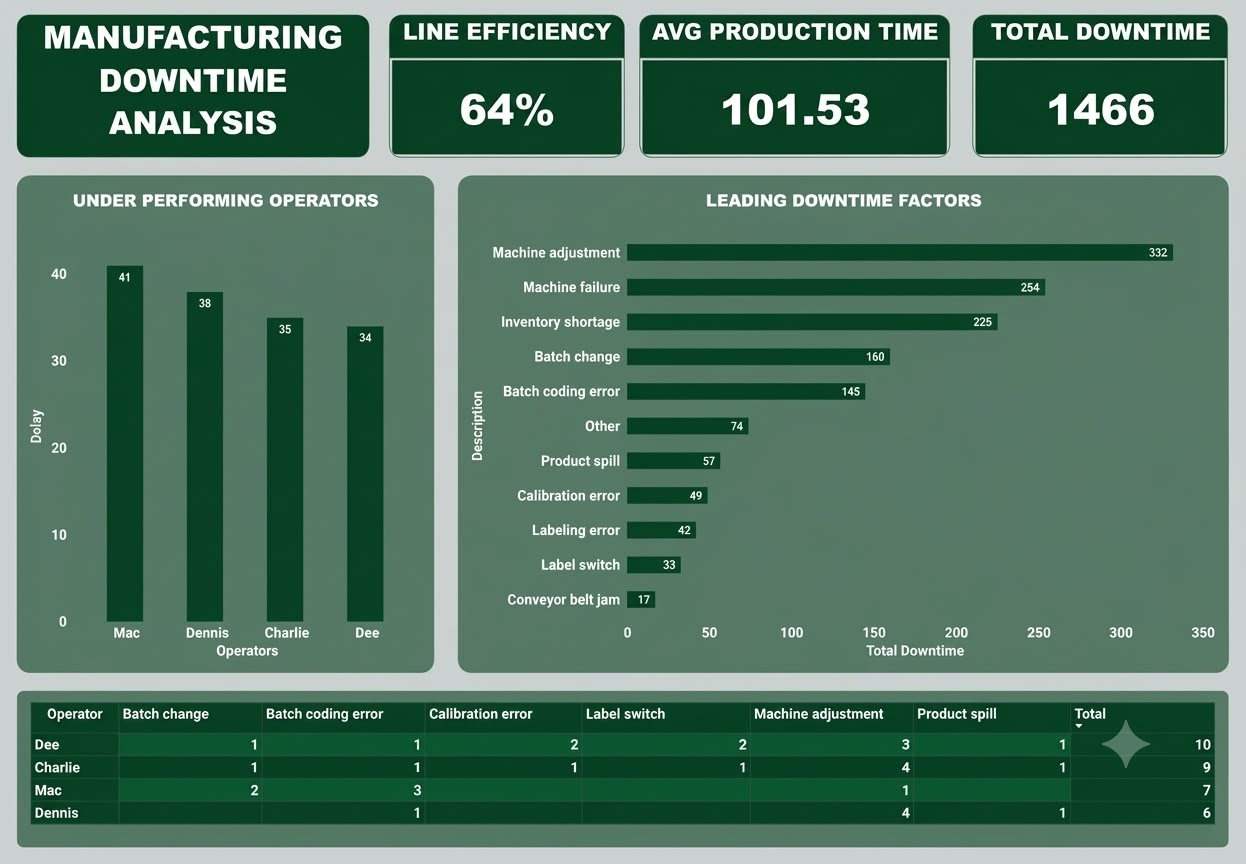

This screenshot's page, from the dashboard's own definition file:
{"tool":"powerbi","page":{"name":"Page 1","canvas":[1920,1080],"ordinal":0},"visuals":[{"type":"cardVisual","title":"LINE EFFICIENCY","fields":{"Data":["Sum(01 Line Efficiency.line_efficiency)"]},"box":[694.5,22.7,289.1,175.7],"z":0},{"type":"textbox","box":[235.3,22.7,433.7,175.7],"z":1000},{"type":"cardVisual","title":"AVG PRODUCTION TIME","fields":{"Data":["Avg(Line Productivity.Production Time(minutes))"]},"box":[1003.5,22.7,382.7,175.7],"z":2000},{"type":"cardVisual","title":"TOTAL DOWNTIME","fields":{"Data":["Sum(Line Downtime.downtime minutes)"]},"box":[1414.5,22.7,314.6,175.7],"z":3000},{"type":"clusteredColumnChart","title":"UNDER PERFORMING OPERATORS","fields":{"Category":["02 Underperforming Operators.Operator"],"Y":["Sum(02 Underperforming Operators.Delay)"]},"box":[235.3,221.1,513.1,612.3],"z":4000},{"type":"barChart","title":"LEADING DOWNTIME FACTORS ","fields":{"Category":["03 Downtime Factors Description.Description"],"Y":["Sum(03 Downtime Factors Description.Total_downtime)"]},"box":[779.5,221.1,949.6,612.3],"z":5000},{"type":"pivotTable","fields":{"Columns":["04 Operator Error Count.Description"],"Rows":["04 Operator Error Count.Operator"],"Values":["Sum(04 Operator Error Count.Error_count)"]},"box":[212.6,856.1,1516.5,192.8],"z":6000}]}

Visuals, with their boxes on the page's 1920x1080 design canvas (x1, y1, x2, y2). These are canvas units, not pixel positions in the 1246x864 screenshot, which may show the page scaled, cropped or inside an application window:
"LINE EFFICIENCY" cardVisual: {"left": 694, "top": 23, "right": 984, "bottom": 198}
textbox: {"left": 235, "top": 23, "right": 669, "bottom": 198}
"AVG PRODUCTION TIME" cardVisual: {"left": 1004, "top": 23, "right": 1386, "bottom": 198}
"TOTAL DOWNTIME" cardVisual: {"left": 1414, "top": 23, "right": 1729, "bottom": 198}
"UNDER PERFORMING OPERATORS" clusteredColumnChart: {"left": 235, "top": 221, "right": 748, "bottom": 833}
"LEADING DOWNTIME FACTORS " barChart: {"left": 780, "top": 221, "right": 1729, "bottom": 833}
pivotTable - 04 Operator Error Count.Description x 04 Operator Error Count.Operator: {"left": 213, "top": 856, "right": 1729, "bottom": 1049}
